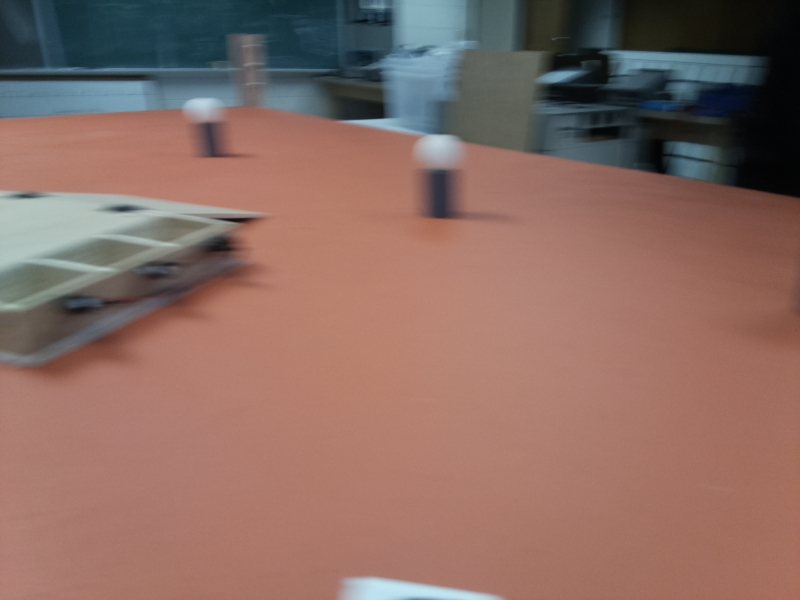corner: (235, 33, 263, 110)
obstacle: (415, 133, 463, 224), (189, 98, 225, 162)
side: (39, 221, 230, 360)
